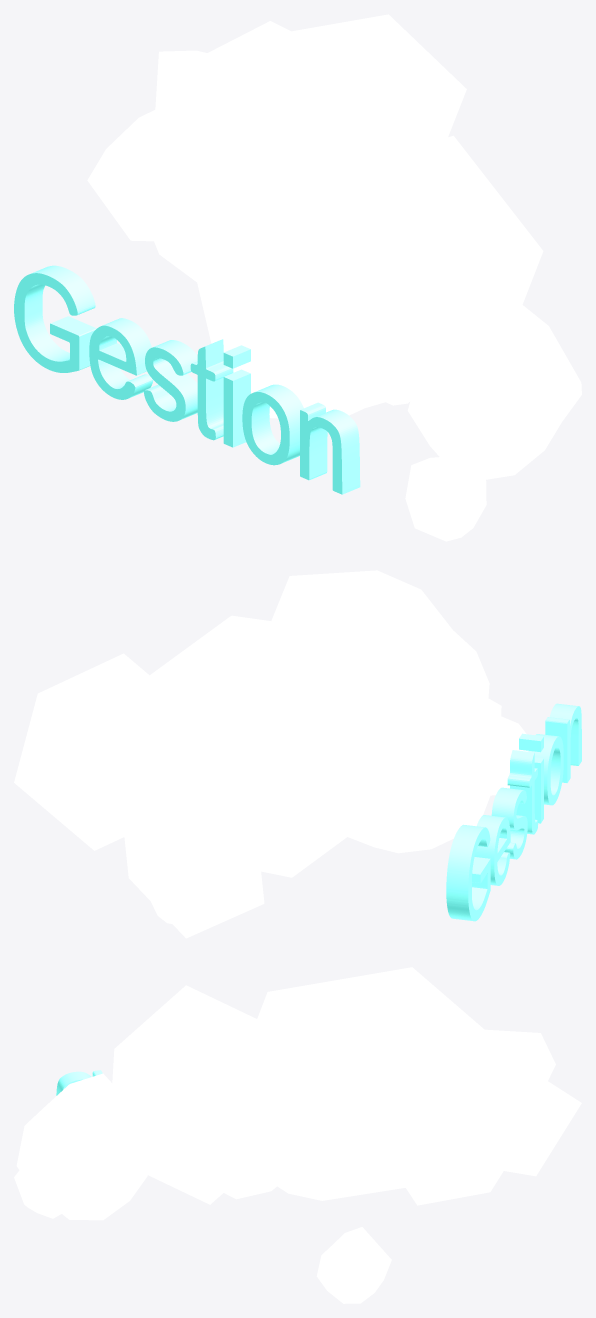
Rendered from cloud1.glb.
3 views of the same model, one above another, from view 1: azimuth 30°, elevation 25°; view 2: azimuth 150°, elevation 25°; view 3: azimuth 270°, elevation 25° (orthographic). The views are drawn at different scales.
Visible parts, largest first — view 1: Объект_Платоново_тело1_2, Объект_Платоново_тело_8, 3d-drawingglb, Объект_Платоново_тело1_1, Объект_Платоново_тело_2, Объект_Платоново_тело_7, Объект_Платоново_тело_1, Объект_Платоново_тело_5, Объект_Платоново_тело_6; view 2: Объект_Платоново_тело1_2, Объект_Платоново_тело1_1, Объект_Платоново_тело_7, 3d-drawingglb, Объект_Платоново_тело_8, Объект_Платоново_тело_5, Объект_Платоново_тело_6, Объект_Платоново_тело_3, Объект_Платоново_тело_1, Объект_Платоново_тело_2; view 3: Объект_Платоново_тело1_2, Объект_Платоново_тело_8, Объект_Платоново_тело_7, Объект_Платоново_тело_2, Объект_Платоново_тело_4, Объект_Платоново_тело_6, Объект_Платоново_тело_5, Объект_Платоново_тело1_1, Объект_Платоново_тело_1.
Boxes of the visible parts, x1,y1,x2,y2 form: Объект_Платоново_тело1_2: (135,21,443,281); Объект_Платоново_тело_8: (269,135,543,409); 3d-drawingglb: (14,265,360,494); Объект_Платоново_тело1_1: (191,197,443,418); Объект_Платоново_тело_2: (407,276,581,479); Объект_Платоново_тело_7: (254,14,466,195); Объект_Платоново_тело_1: (405,456,486,541); Объект_Платоново_тело_5: (87,110,260,241); Объект_Платоново_тело_6: (155,50,251,161); Объект_Платоново_тело1_2: (116,615,415,877); Объект_Платоново_тело1_1: (273,650,501,853); Объект_Платоново_тело_7: (14,653,203,850); 3d-drawingglb: (446,703,581,921); Объект_Платоново_тело_8: (238,570,477,792); Объект_Платоново_тело_5: (122,781,264,938); Объект_Платоново_тело_6: (118,729,237,852); Объект_Платоново_тело_3: (154,804,245,883); Объект_Платоново_тело_1: (490,716,528,795); Объект_Платоново_тело_2: (454,631,489,697); Объект_Платоново_тело1_2: (216,967,507,1200); Объект_Платоново_тело_8: (108,985,287,1204); Объект_Платоново_тело_7: (368,1049,532,1205); Объект_Платоново_тело_2: (16,1073,161,1220); Объект_Платоново_тело_4: (316,1227,391,1303); Объект_Платоново_тело_6: (473,1029,555,1117); Объект_Платоново_тело_5: (493,1055,581,1176); Объект_Платоново_тело1_1: (158,1022,327,1199); Объект_Платоново_тело_1: (14,1170,61,1218).
Size of the model in its own units: 3.15 by 2.5 by 4.36.
